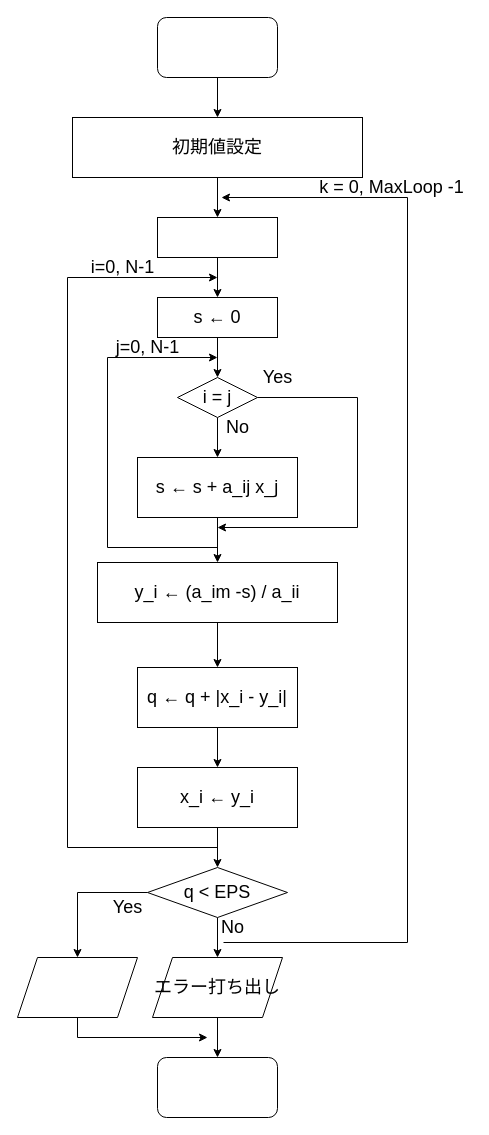
The diagram is 489 pixels wide and 1135 high, and some of its shapes have lost their labels. Each missing label, with the box of its shape:
END: (156, 1056, 278, 1118)
q ← 0: (156, 216, 278, 258)
START: (156, 16, 278, 78)
解答打ち出し: (16, 956, 138, 1018)
